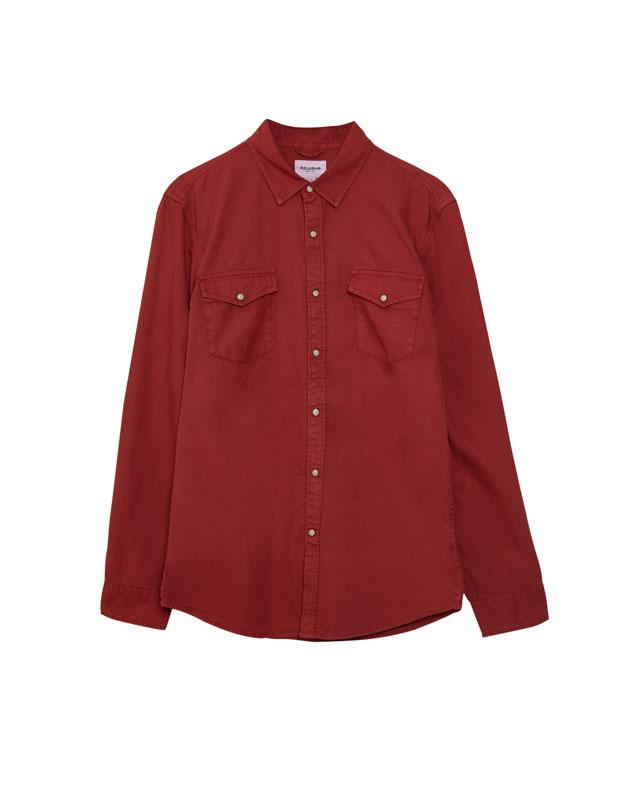teeshirt: (98, 116, 563, 663)
